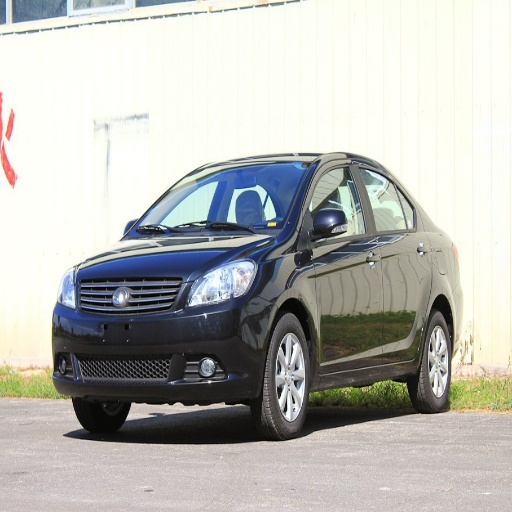front_bumper: (53, 267, 274, 401)
front_glass: (129, 162, 312, 233)
front_left_door: (303, 156, 382, 369)
